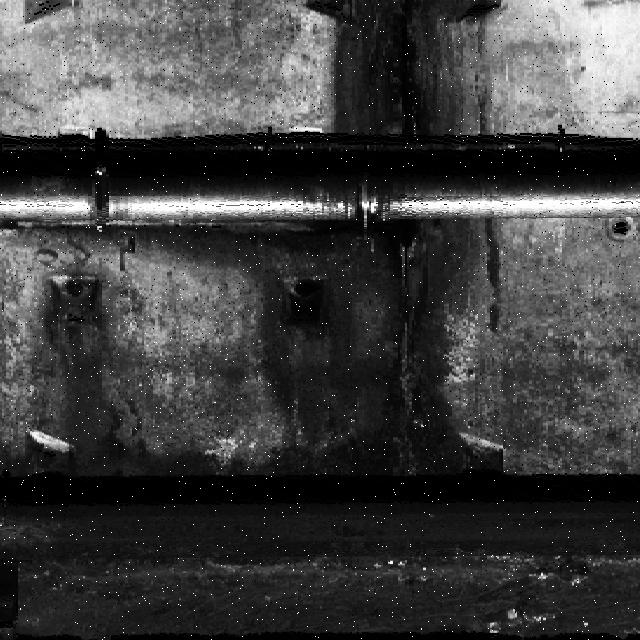leakage: (154, 217, 533, 476), (299, 1, 507, 138), (15, 278, 142, 478)
